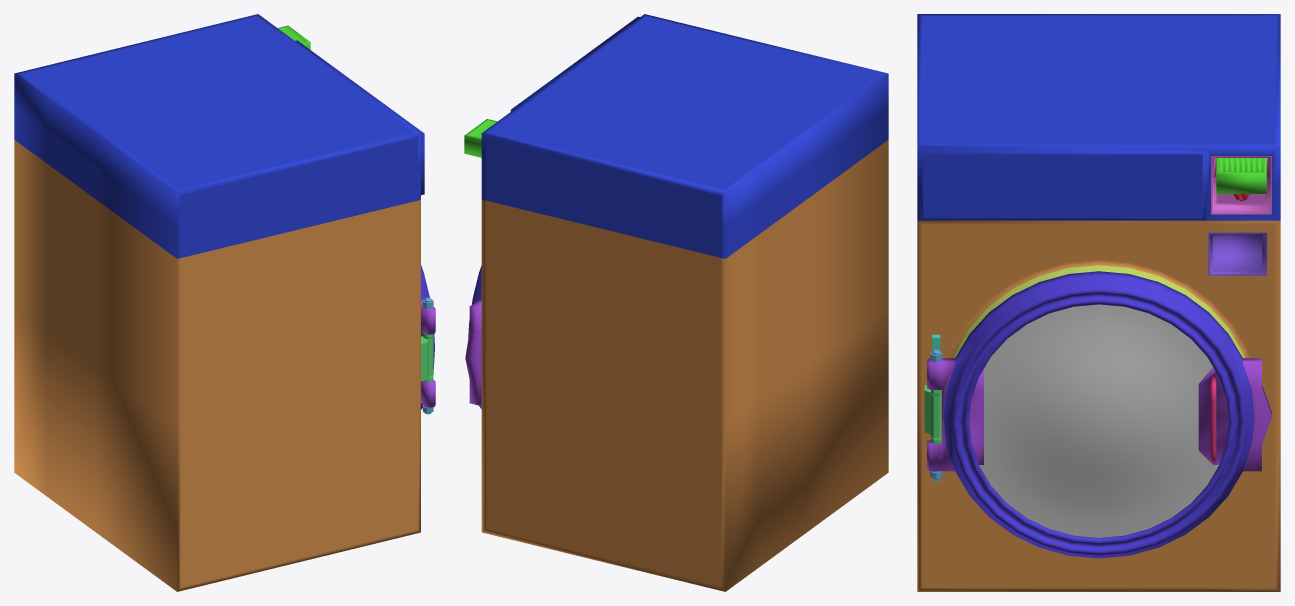
Rendered from Washing Machine New Mesh.fbx.
3 views of the same model, side by side, from view 1: azimuth 30°, elevation 25°; view 2: azimuth 150°, elevation 25°; view 3: azimuth 270°, elevation 25° (orthographic). The views are drawn at different scales.
Parts seen in each view (by area): view 1: washing machine main; view 2: washing machine main; view 3: washing machine main, washing machine glass.
Part boxes in pixels (x1,y1,x2,y2): washing machine main: (14,14,435,591); washing machine main: (464,14,888,591); washing machine main: (917,14,1280,591); washing machine glass: (979,304,1218,537).
Size of the model in its own units: 366 by 493 by 365.
